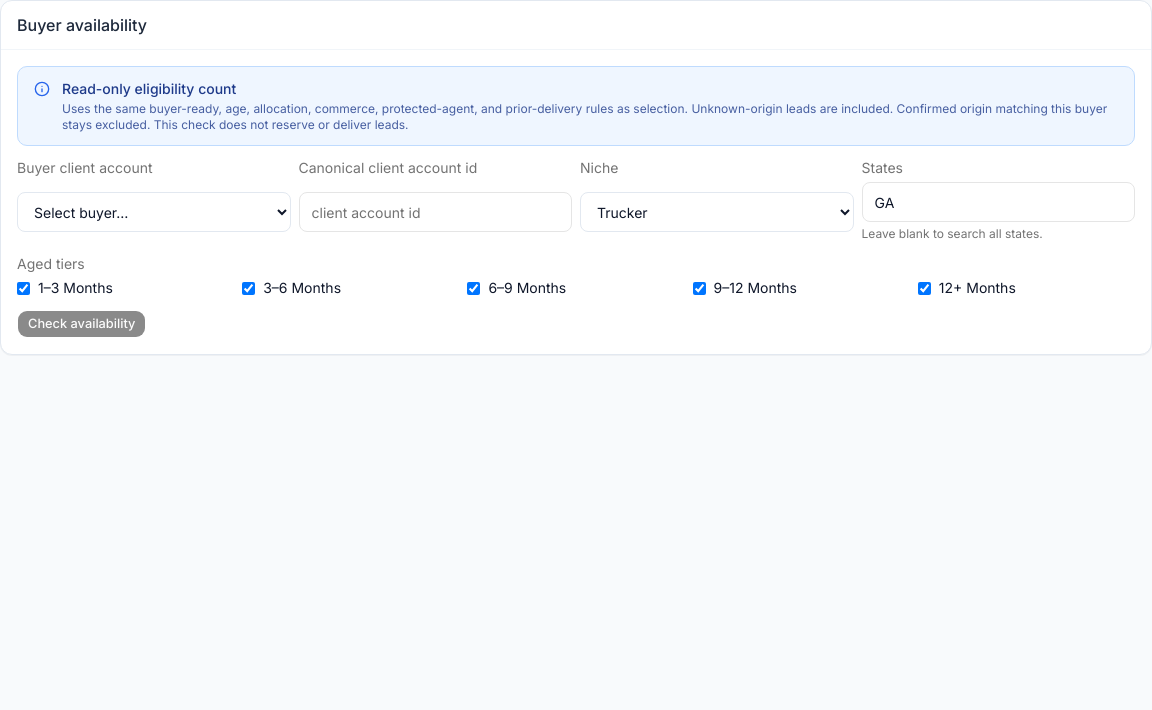
BuyerAvailabilityPanel › labels an incomplete scan as a lower bound and leaves unscanned tiers unreached
This screenshot has width=1152, height=710.
Type "client_jr_laird" into the field with test id "buyer-availability-client-id". click: point(435, 212)
box: x1=298 y1=192 x2=572 y2=232
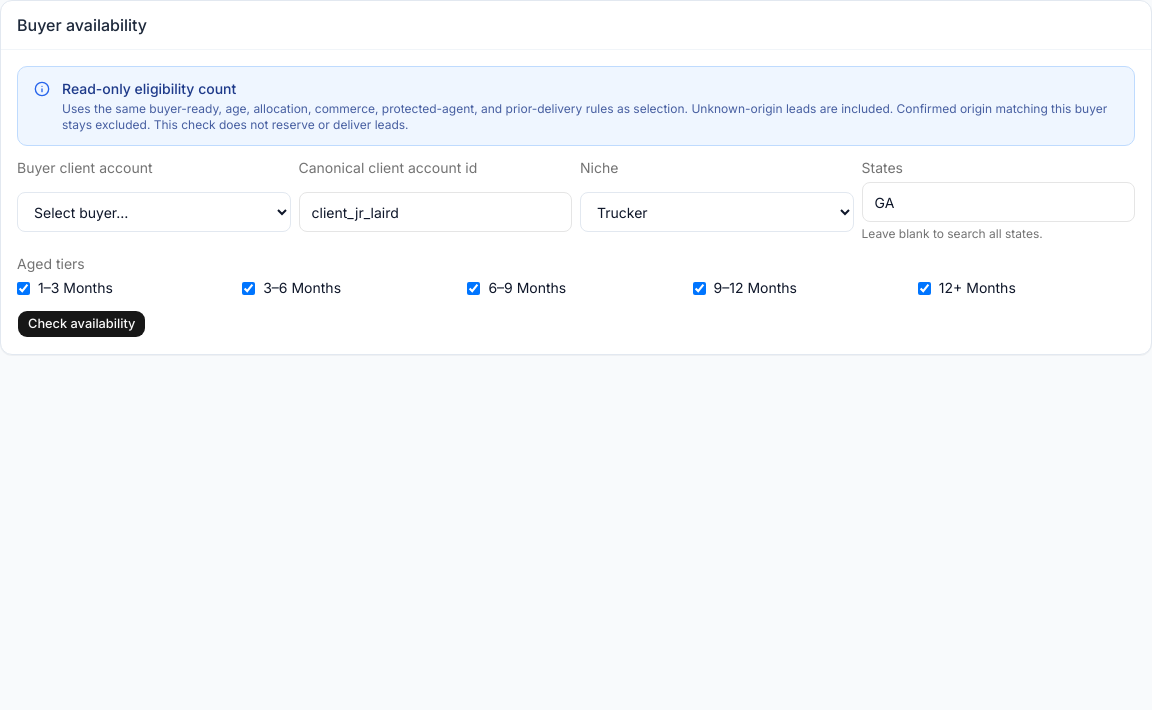
Click the button with test id "buyer-availability-submit". click: point(82, 324)
box: x1=17 y1=310 x2=146 y2=338
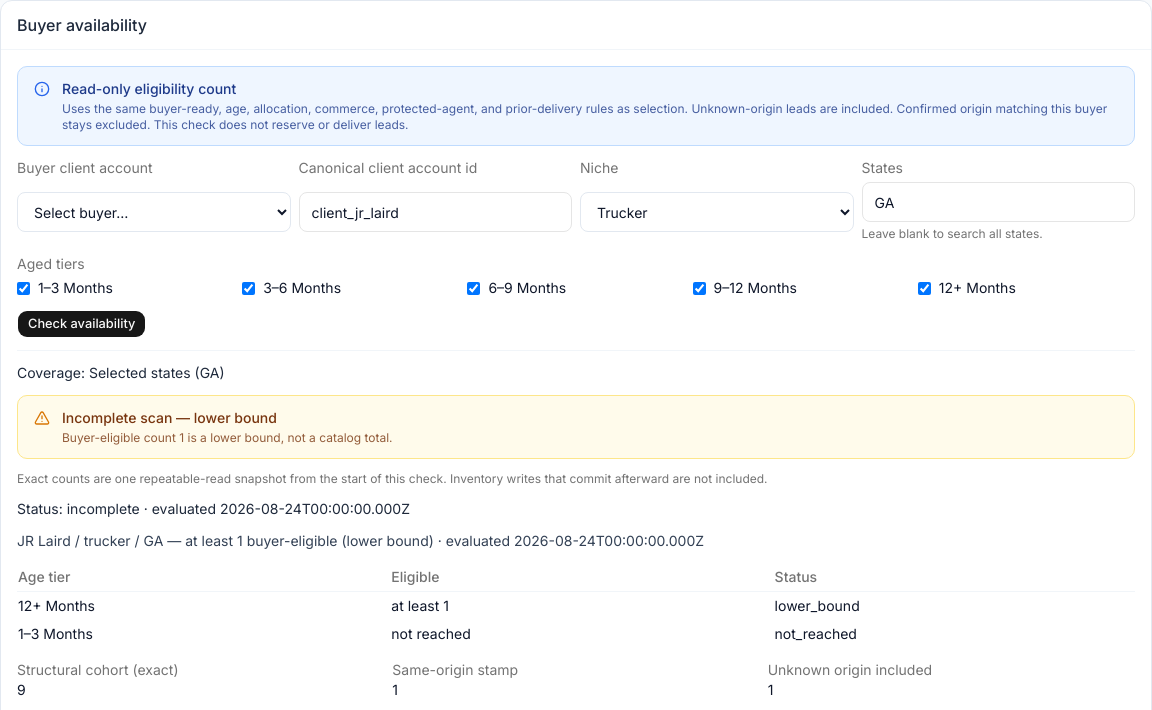
expect the text with test id "buyer-availability-total" shows "at least 1 buyer-eligible": met, box x1=17 y1=532 x2=704 y2=549
expect the text with test id "buyer-availability-total" shows "lower bound": met, box x1=338 y1=532 x2=434 y2=549
expect the row with test id "buyer-availability-tier-row-COMMERCE_1_3_MO" shows "not reached": met, box x1=391 y1=625 x2=471 y2=642
